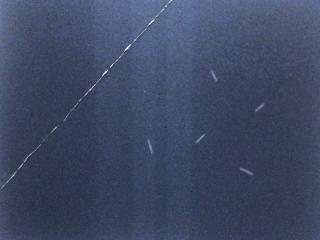crack: (0, 0, 175, 189)
scratch: (248, 90, 272, 124), (204, 62, 223, 89), (192, 122, 209, 152), (142, 135, 163, 159), (234, 162, 261, 180)
